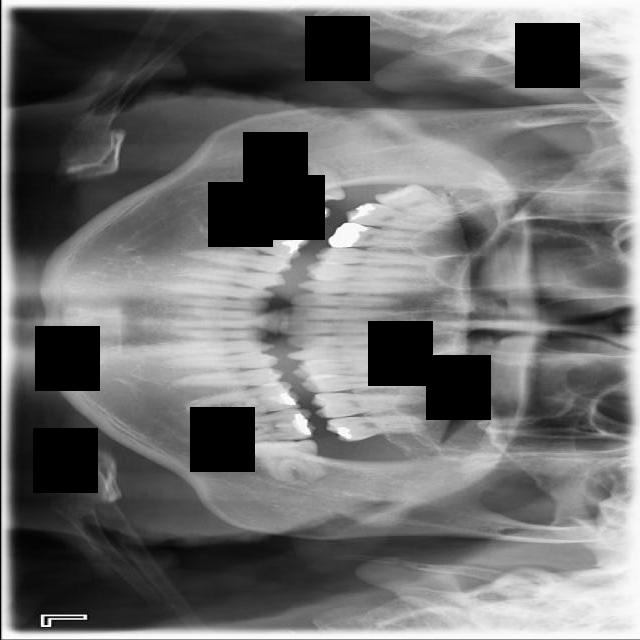3M ESPE Implant: (372, 176, 480, 226)
52: (259, 223, 312, 263), (268, 404, 317, 446), (280, 201, 332, 236), (249, 379, 301, 414), (324, 415, 382, 443), (344, 199, 398, 229), (327, 222, 377, 248)
73: (73, 612, 79, 615)
BioHorizons Implant: (324, 412, 443, 443)
Biomet 3i Implant: (248, 437, 325, 482)
Blue Sky Bio Implant: (210, 406, 316, 448)
Caries: (343, 201, 463, 233)
Implant: (226, 196, 331, 236)
Keystone Dental Implant: (272, 153, 345, 209)
